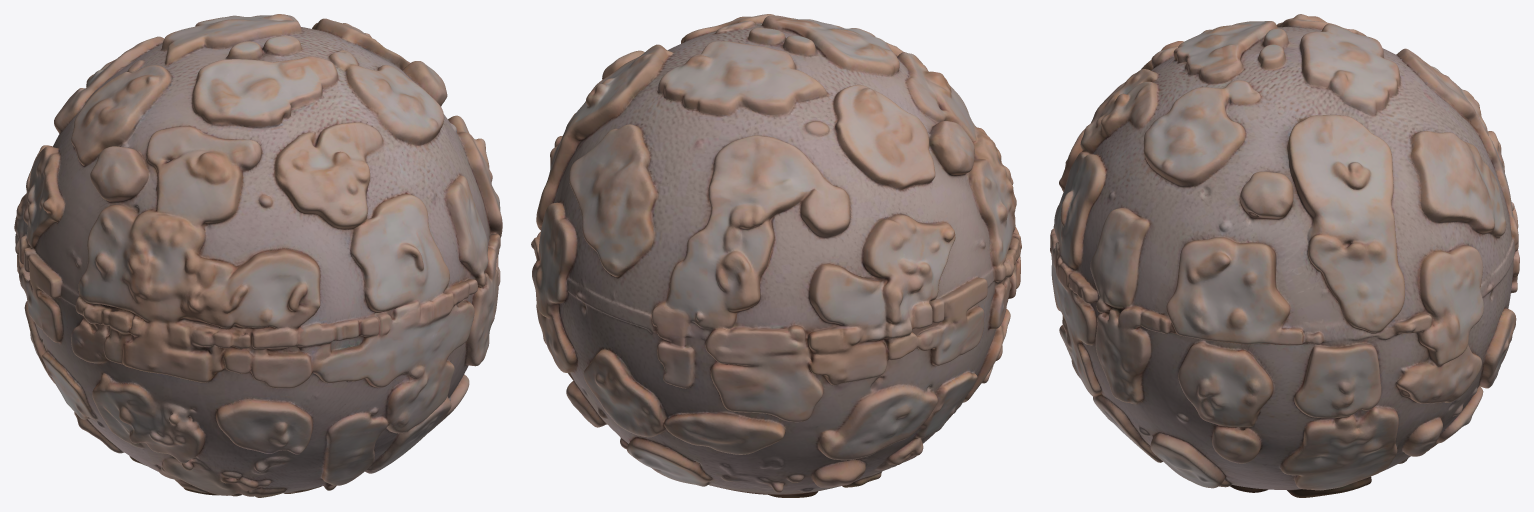
The model's file is detailed_realistic_model_solid_14.glb.
The picture shows the model from 3 angles, left to right: view 1: azimuth 30°, elevation 25°; view 2: azimuth 150°, elevation 25°; view 3: azimuth 270°, elevation 25°; orthographic projection.
Parts seen in each view (by area): view 1: tripo_node_b03de652-bbe3-4841-8be2-0bd9492ce689; view 2: tripo_node_b03de652-bbe3-4841-8be2-0bd9492ce689; view 3: tripo_node_b03de652-bbe3-4841-8be2-0bd9492ce689.
Part boxes in pixels (left/top/right/bottom): tripo_node_b03de652-bbe3-4841-8be2-0bd9492ce689: left=14, top=14, right=502, bottom=497; tripo_node_b03de652-bbe3-4841-8be2-0bd9492ce689: left=531, top=14, right=1021, bottom=497; tripo_node_b03de652-bbe3-4841-8be2-0bd9492ce689: left=1050, top=14, right=1519, bottom=497.
Bounding box in the file's own units: 1 × 0.9831 × 0.992.
Materials: 1 (1 with a texture image).
